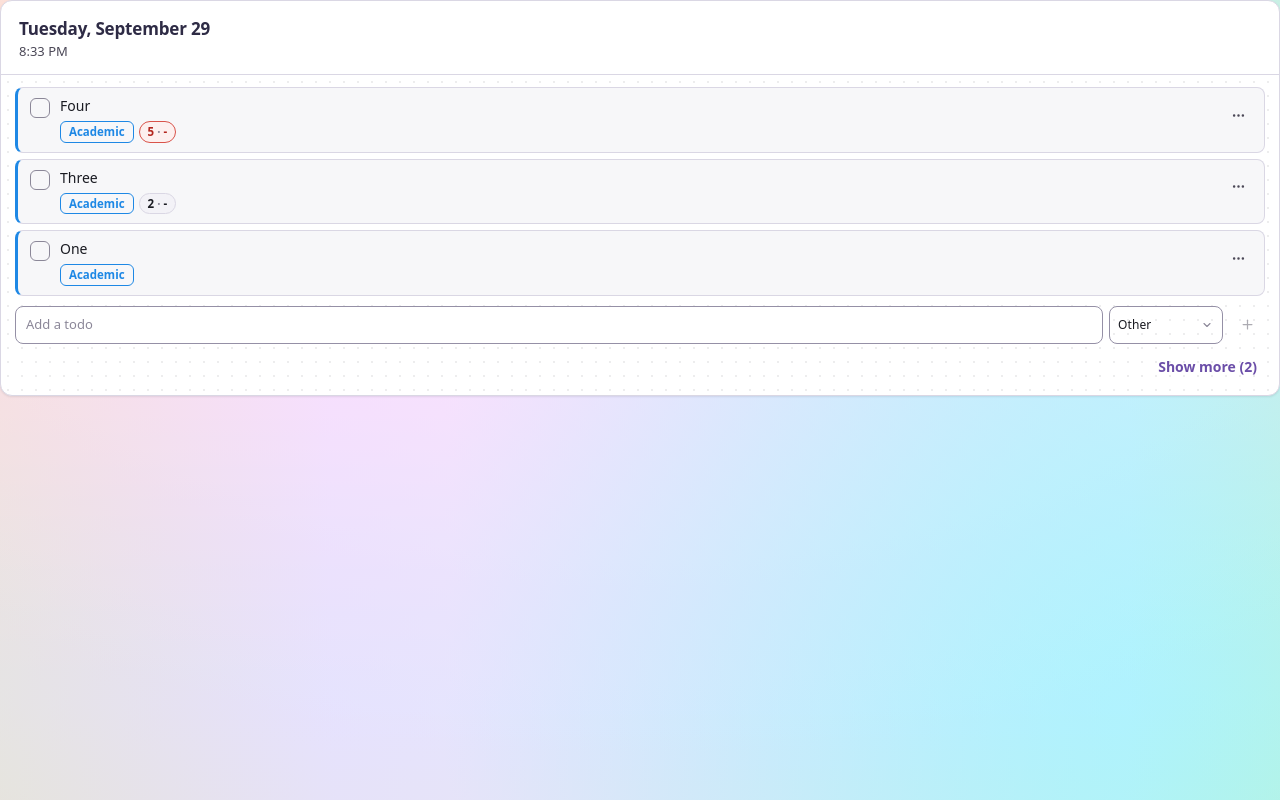
Test case: the daily todo card › shows the top three on the card, and Show more opens every todo in a dialog that Escape closes, returning focus
Click the button "Show more (2)".
click(1208, 366)  # box 1150,352 -> 1265,381
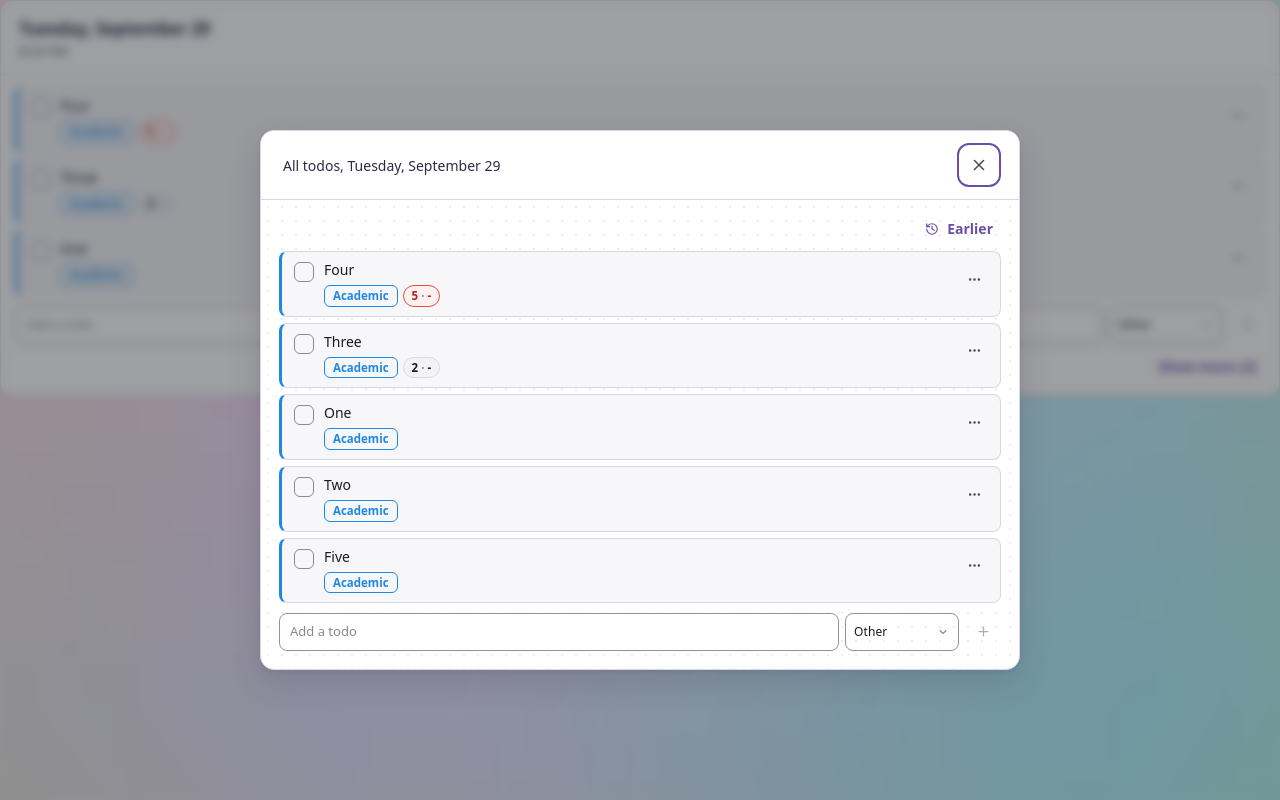
// Every control is there: add, tick, the options panel.
Type "Six" into the field named "New todo".
click(559, 632); type("Six")  # box 279,614 -> 839,651
Then press Enter
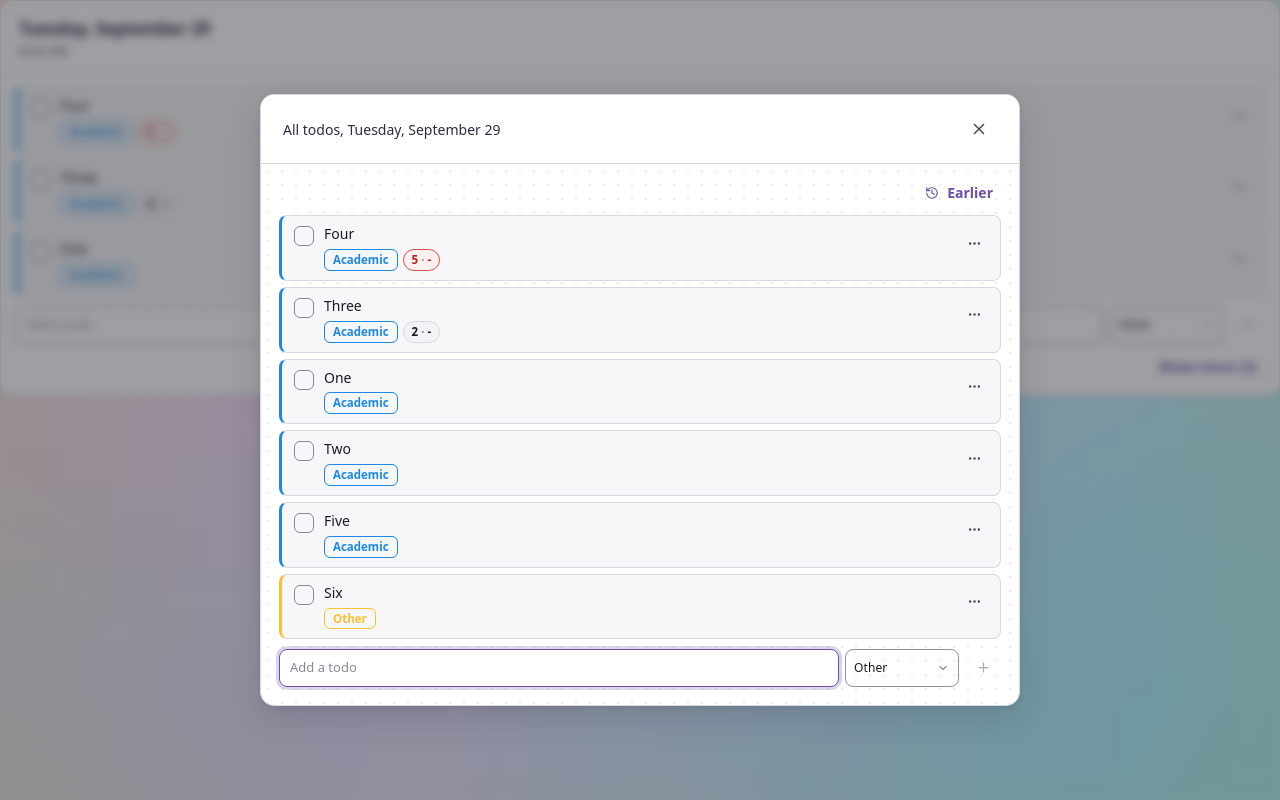
Expected: the checkbox named "Six" is shown, 294,585 -> 314,605
Click the checkbox named "Two".
click(304, 451)  # box 294,441 -> 314,461
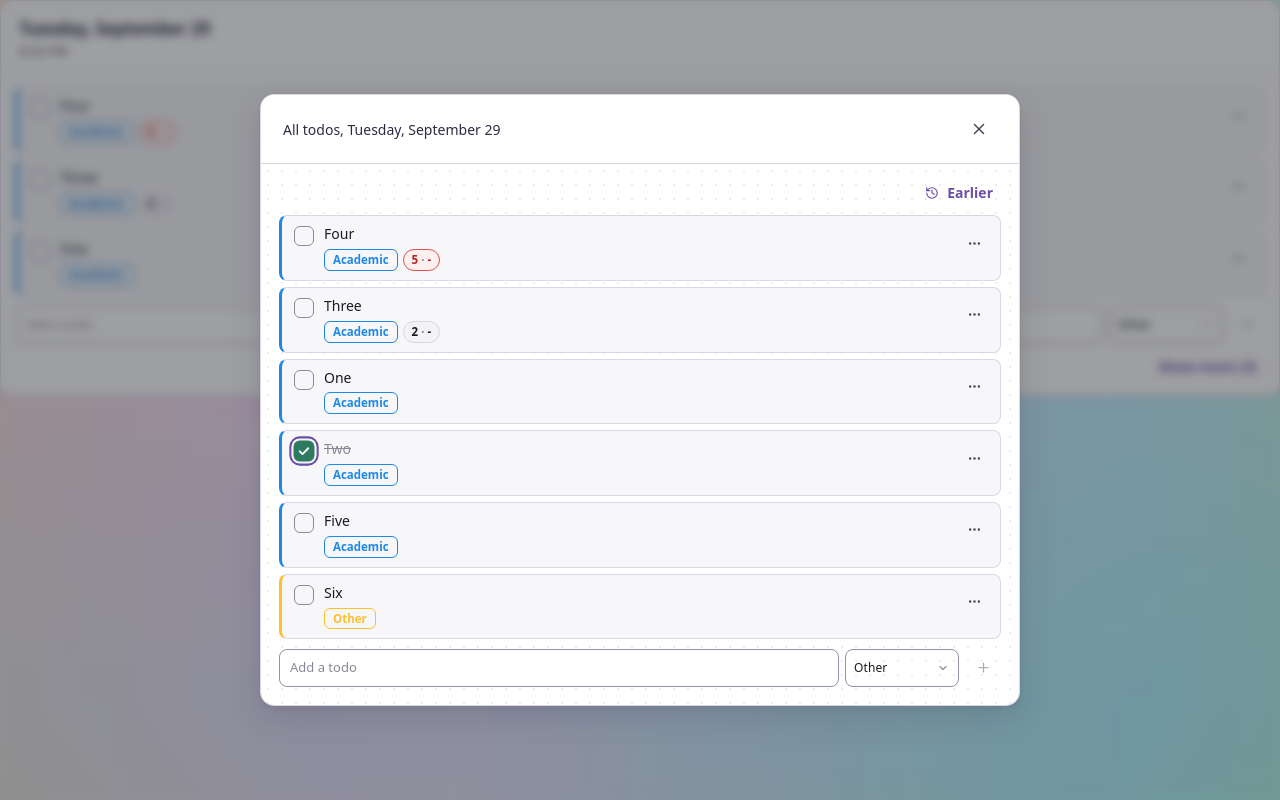
Expected: the checkbox named "Two" is checked, 294,441 -> 314,461
Press Escape
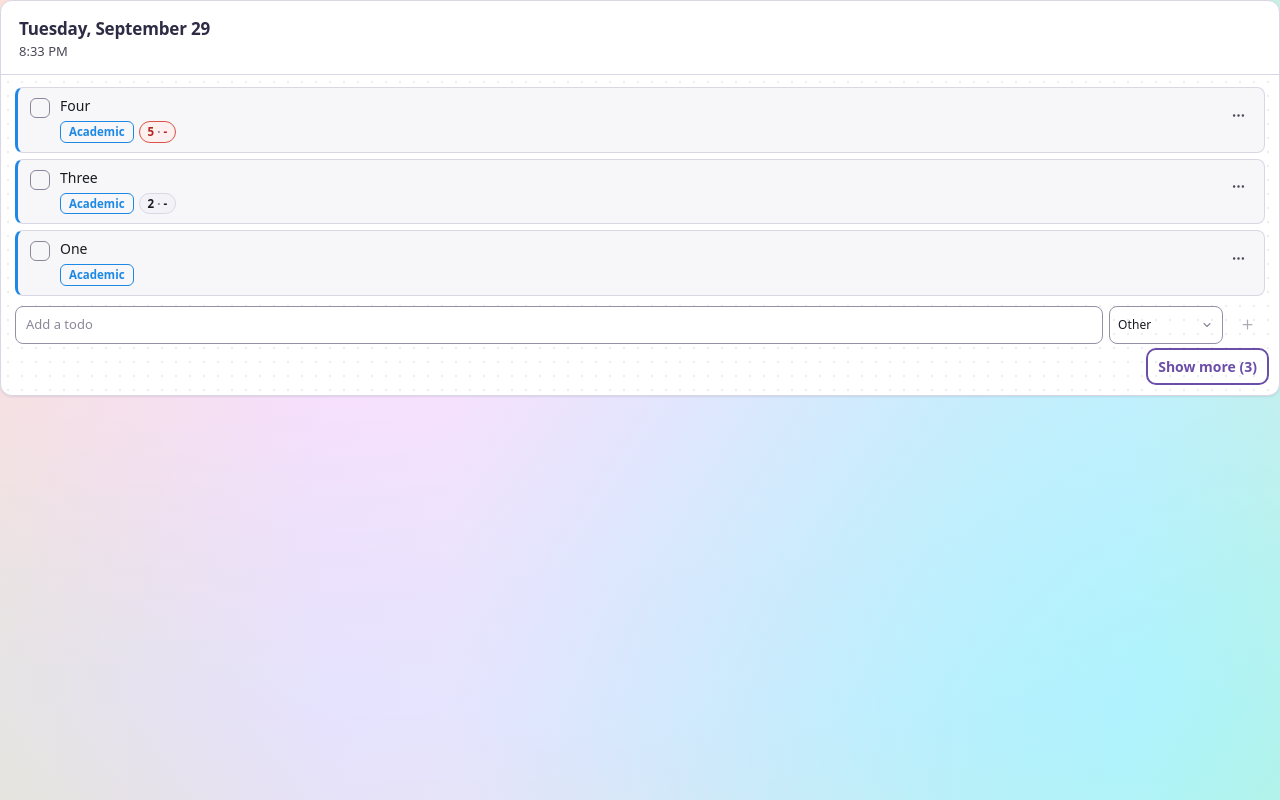
Expected: the heading "All todos" is gone
